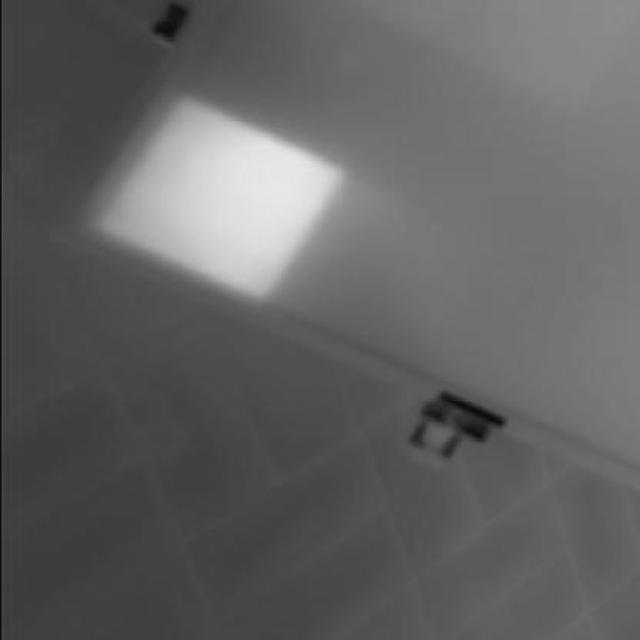hotspot: (82, 87, 350, 313)
